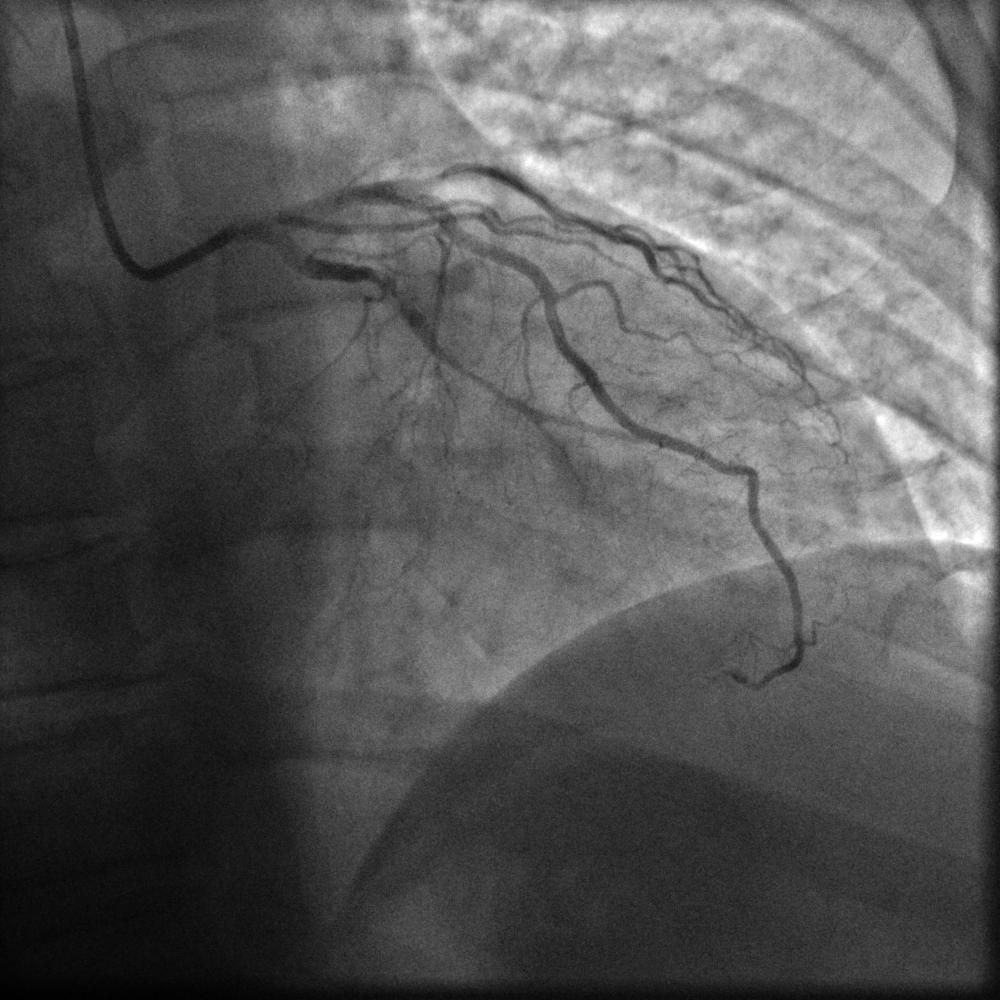Stenosis: (373, 270, 416, 333)
